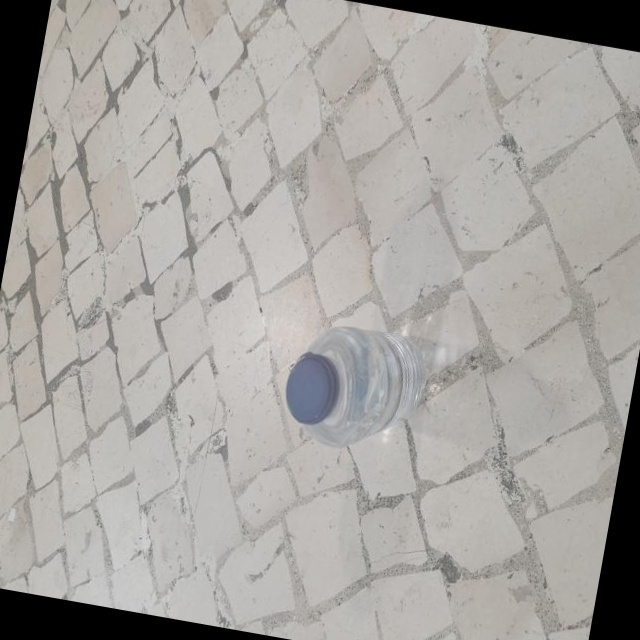Plastic-bottle: (291, 302, 445, 448)
